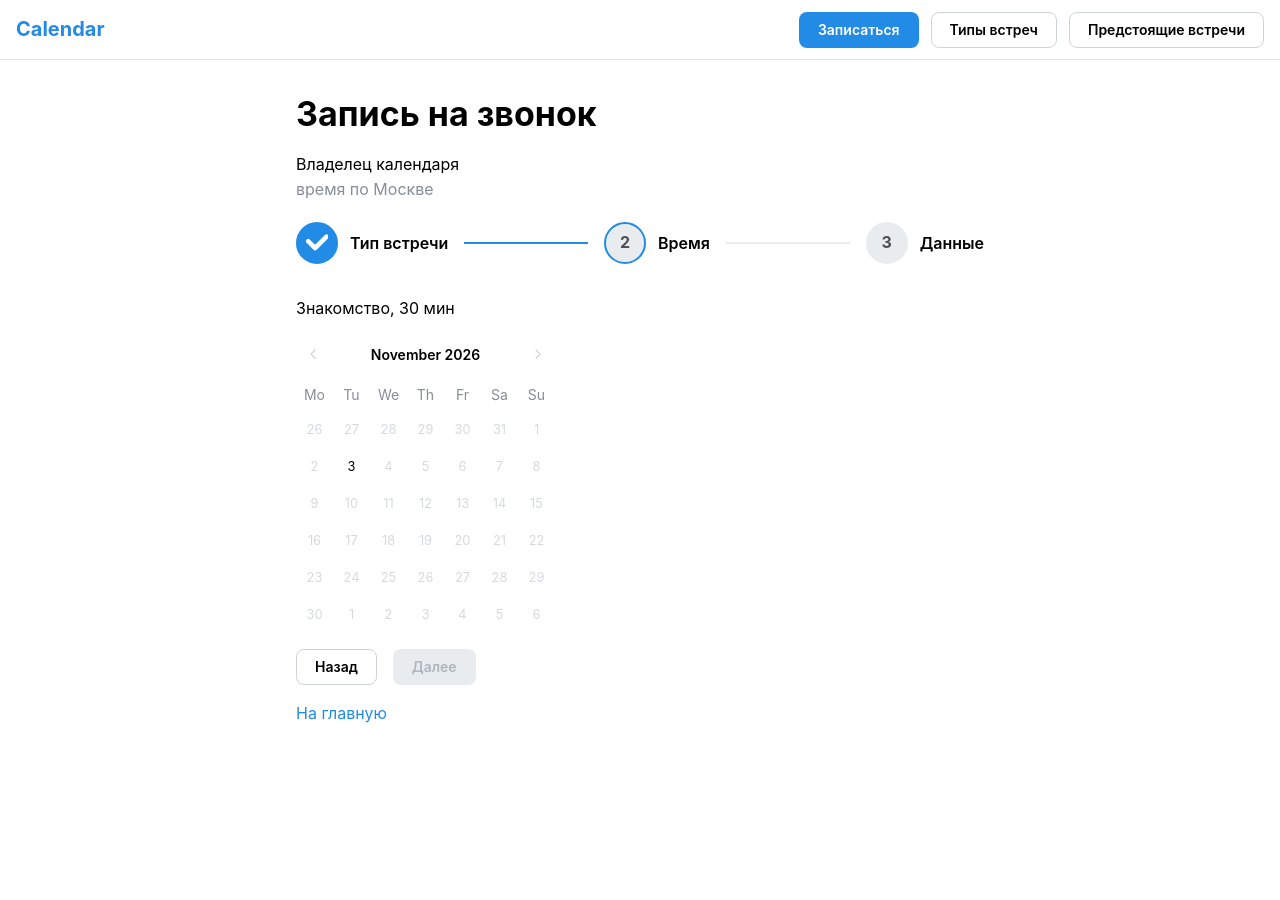
шаг «Данные» › показывает ошибки полей из ответа у полей
The width and height of the screenshot is (1280, 900).
Click the button named "3 November 2026" at [352, 467], box top-left (334, 449), bottom-right (370, 485)
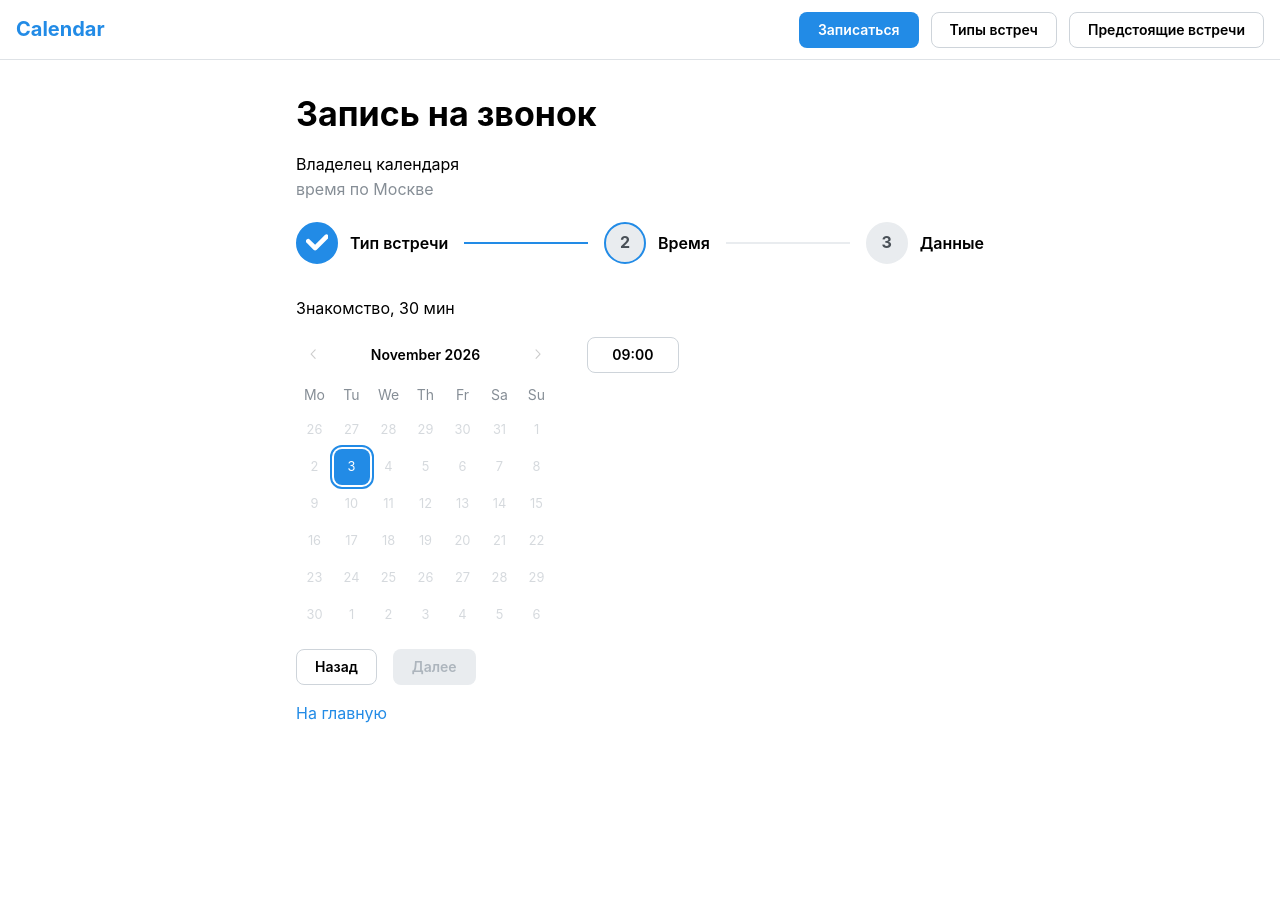
Click the button "09:00" at [633, 355], box top-left (587, 337), bottom-right (679, 373)
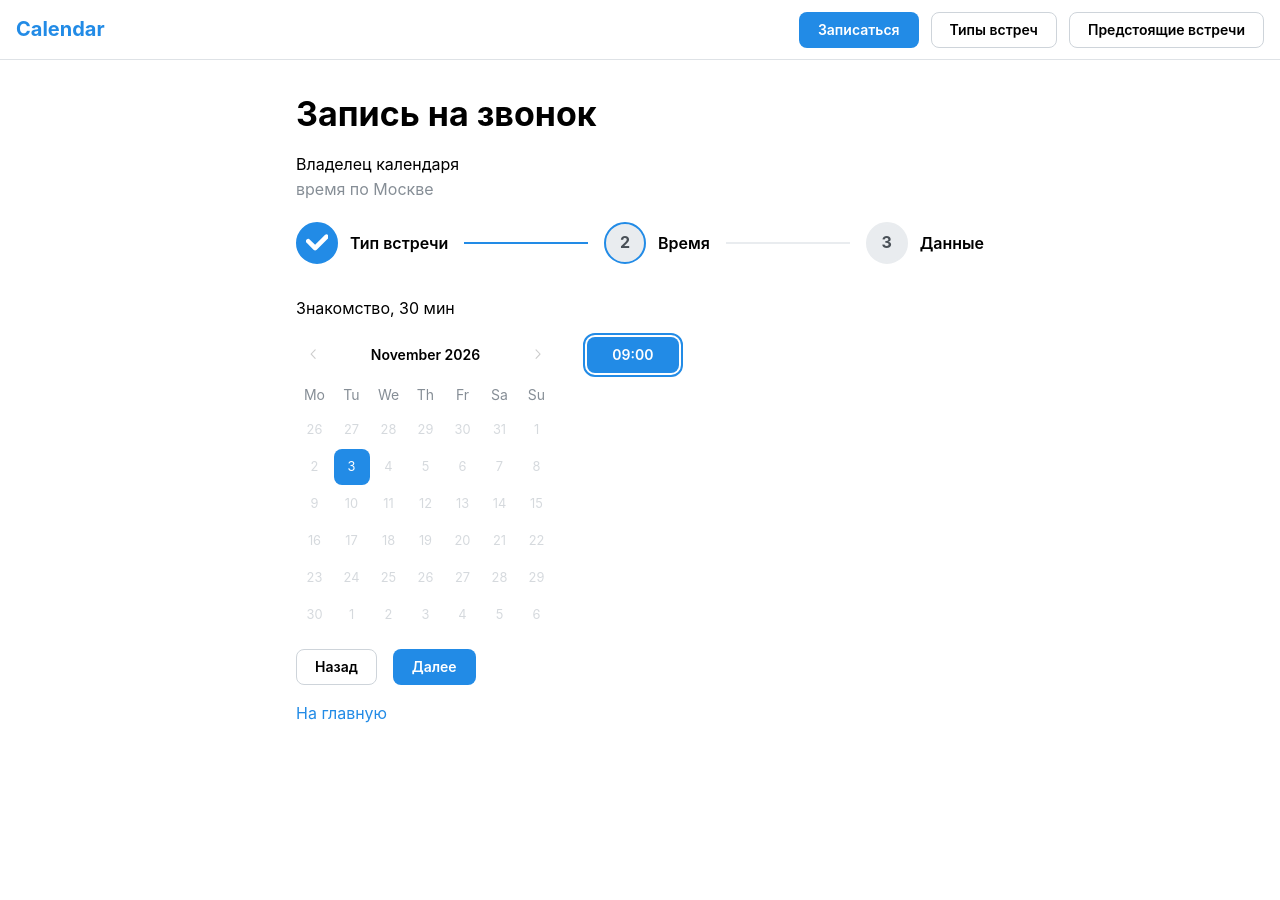
Click the button "Далее" at [434, 667], box top-left (393, 649), bottom-right (476, 685)
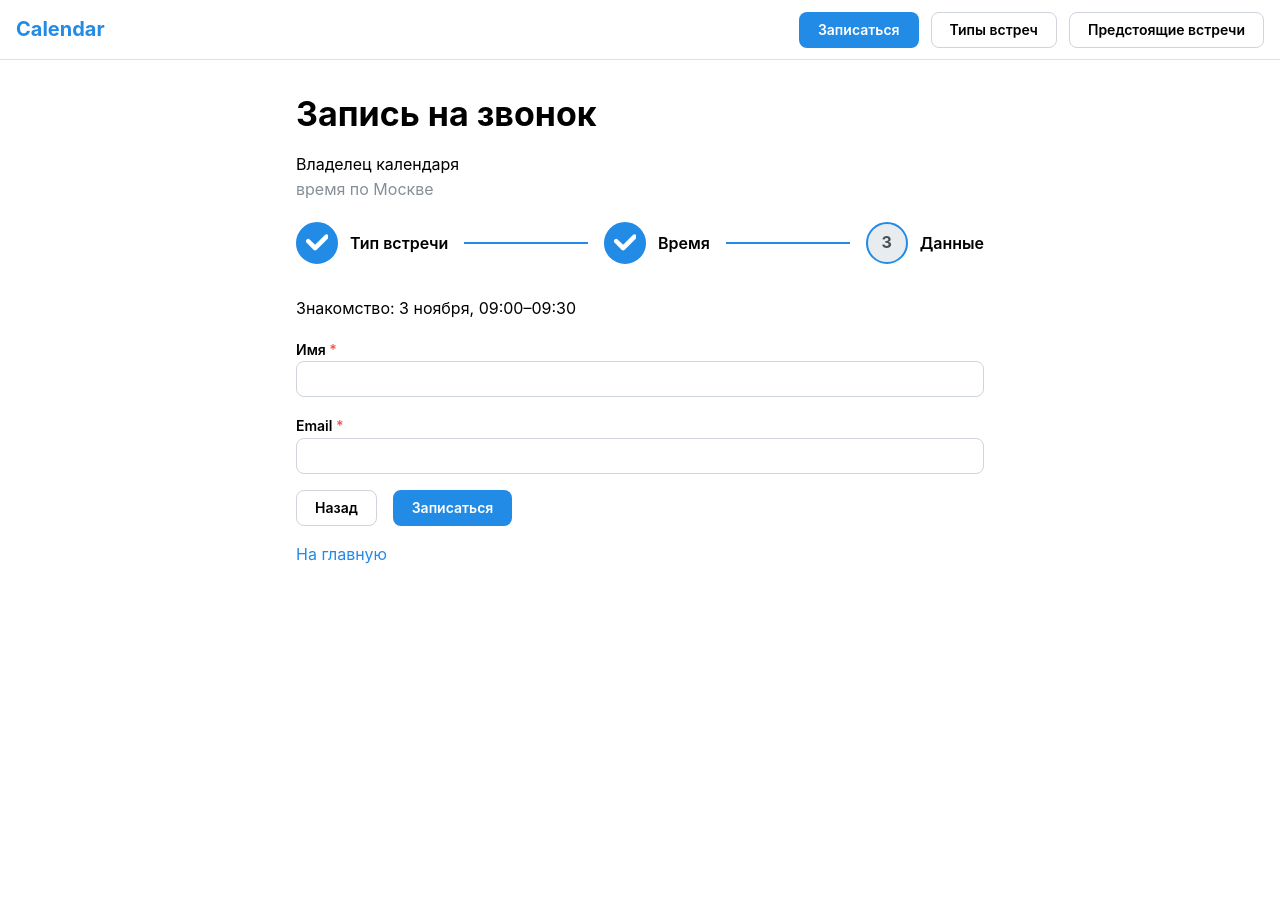
Click the button "Записаться" below "Email" at [452, 508], box top-left (393, 490), bottom-right (512, 526)
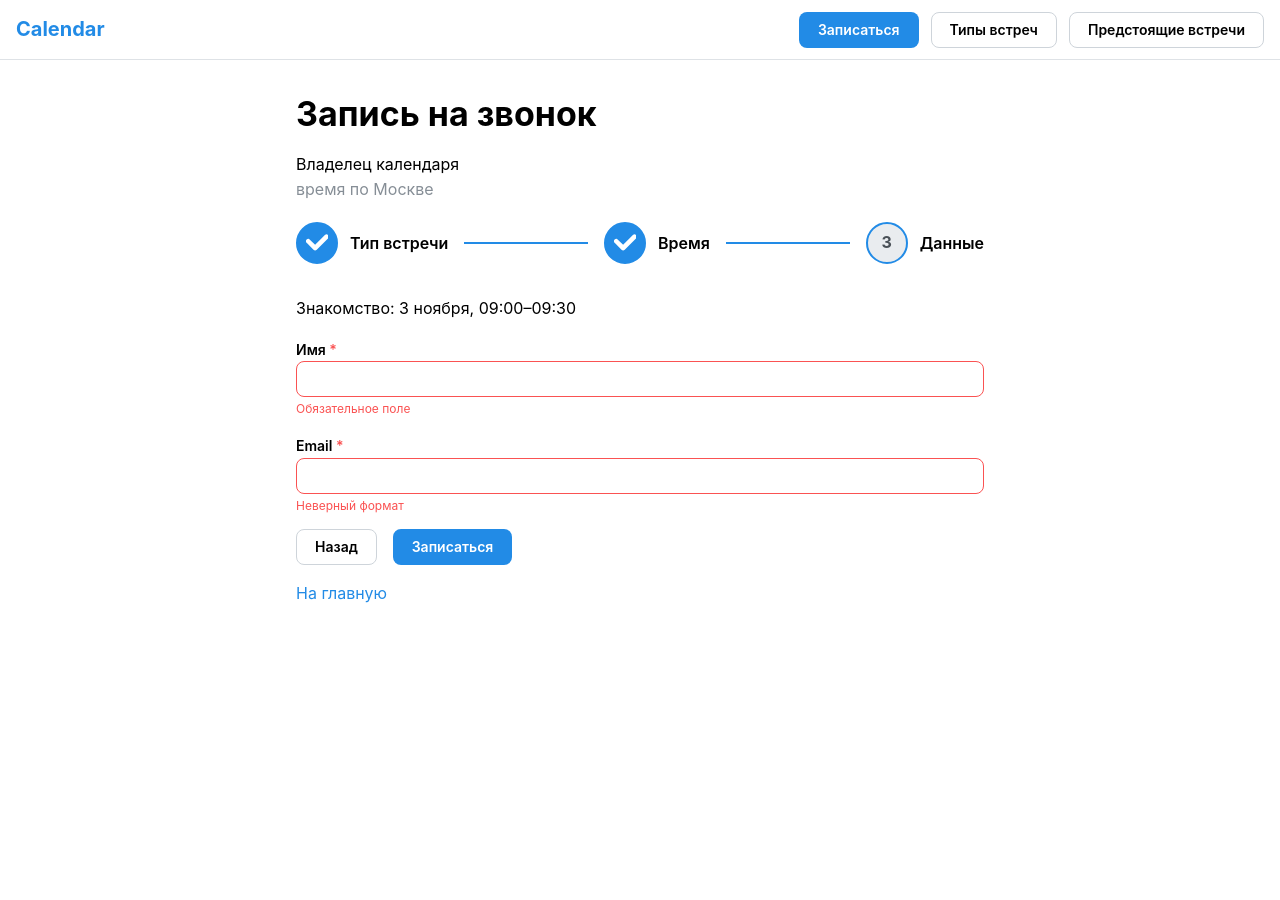
Expected: the text "Обязательное поле" is shown, top-left (296, 401), bottom-right (410, 416)
Expected: the text "Неверный формат" is shown, top-left (296, 498), bottom-right (404, 513)
